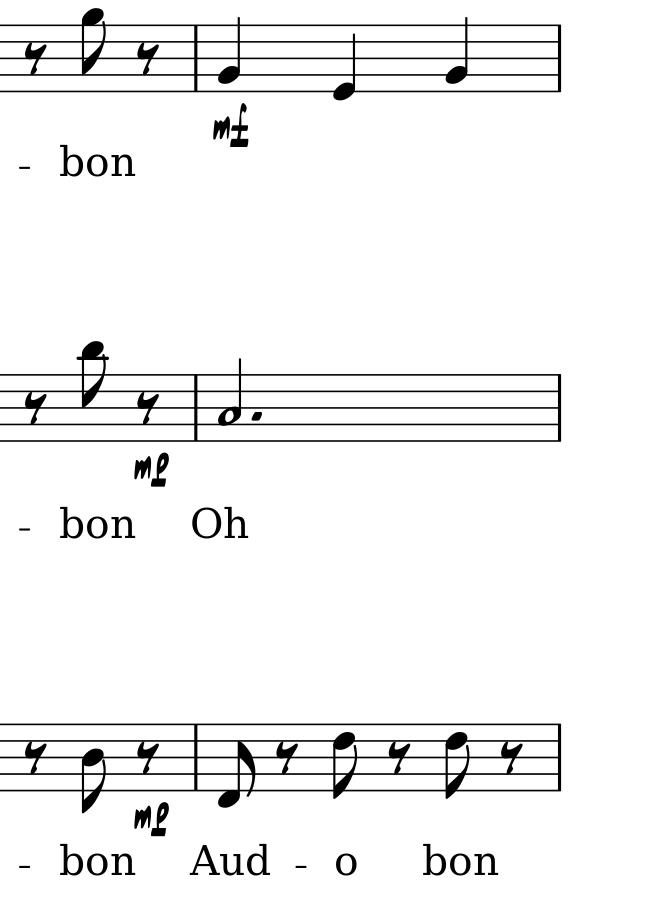2_3: (217, 357, 244, 444)
4_0: (333, 23, 357, 103)
4_2: (445, 16, 471, 95), (217, 15, 242, 94)
8_-1: (218, 722, 257, 809)
8_11: (79, 340, 108, 444)
8_4: (80, 720, 107, 816)
8_6: (444, 719, 474, 804), (332, 721, 359, 801)
8_9: (80, 7, 107, 95)
Rests8: (21, 739, 50, 775), (273, 739, 301, 776), (134, 38, 160, 77), (133, 392, 162, 424), (385, 740, 412, 774), (22, 41, 48, 76), (134, 741, 161, 774), (497, 741, 524, 774), (24, 392, 47, 427)
Single_barline: (550, 725, 567, 790), (187, 27, 204, 90), (551, 27, 568, 90), (187, 725, 203, 791), (187, 375, 203, 440), (551, 376, 566, 440)
mf: (211, 102, 252, 149)
mp: (133, 451, 172, 489), (133, 802, 170, 838)
